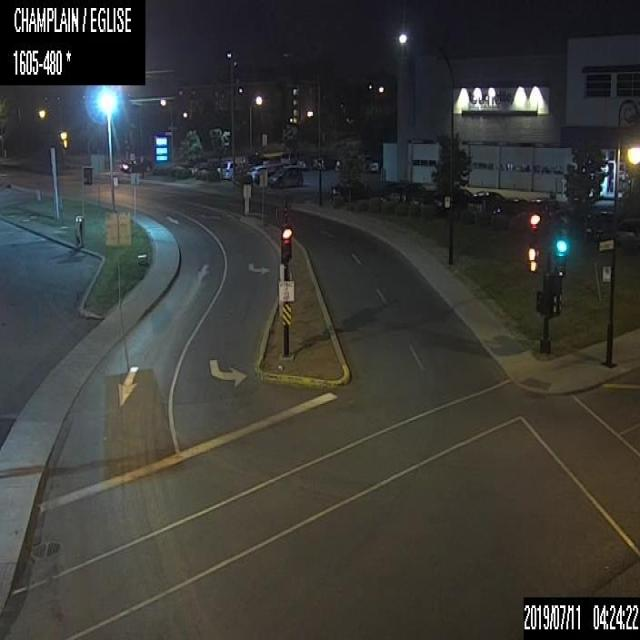vehicle: (466, 188, 504, 214), (378, 181, 424, 201), (586, 210, 615, 239), (518, 198, 560, 218), (331, 178, 370, 199), (435, 187, 471, 209), (491, 196, 526, 217), (268, 166, 302, 187), (120, 153, 152, 172), (616, 216, 639, 242), (219, 159, 245, 180), (410, 189, 438, 208), (246, 163, 268, 180), (280, 150, 304, 164), (296, 158, 310, 170), (370, 161, 379, 171), (334, 159, 341, 171)
